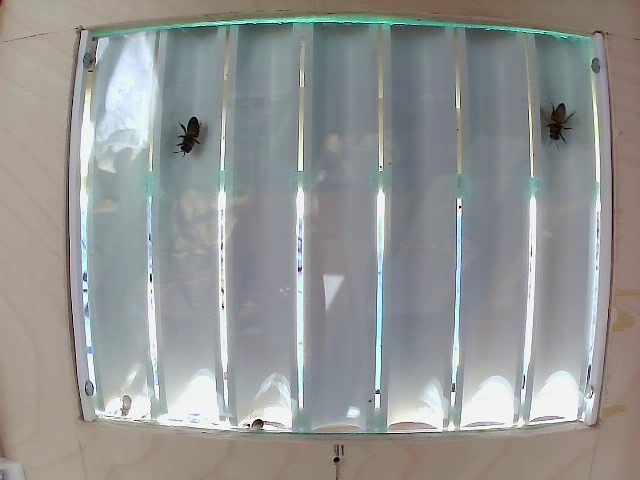bee: (163, 108, 209, 168), (540, 100, 567, 148)
